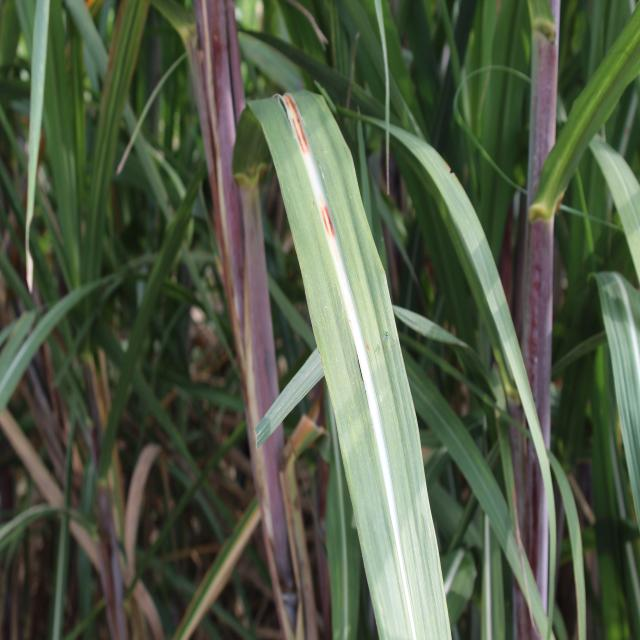Sugarcane: (232, 88, 453, 640)
